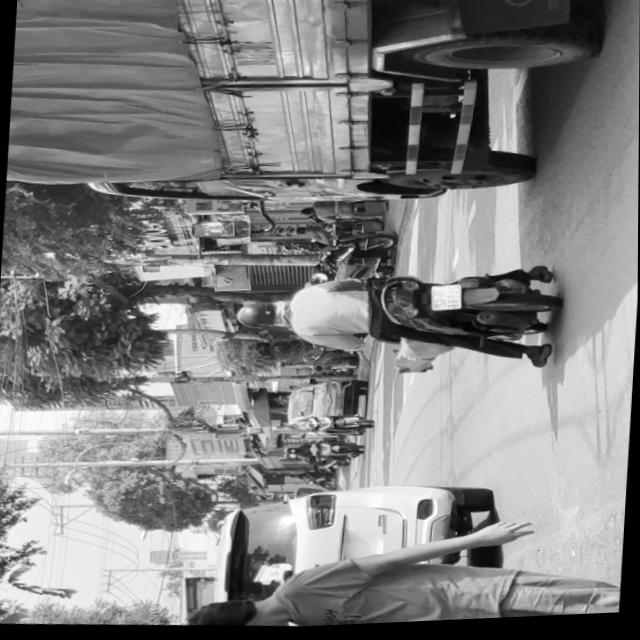helmet: (233, 299, 286, 332)
licenseplate: (229, 255, 564, 379)
nohelmet: (430, 286, 461, 315)
